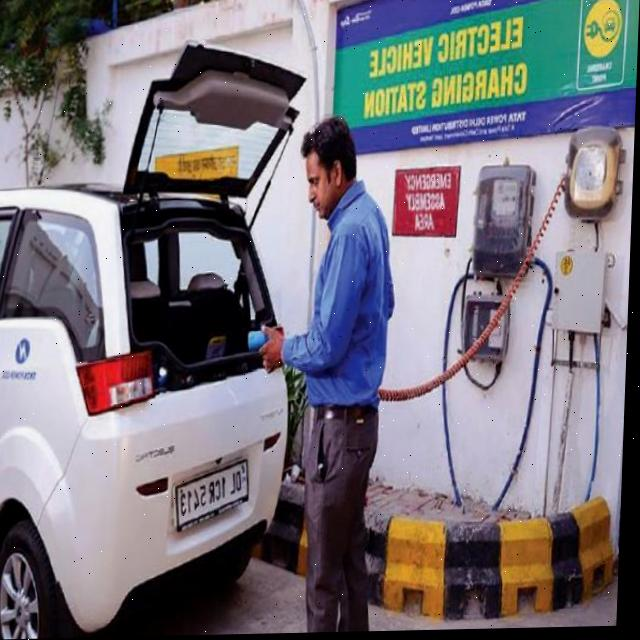plate: (177, 459, 256, 533)
